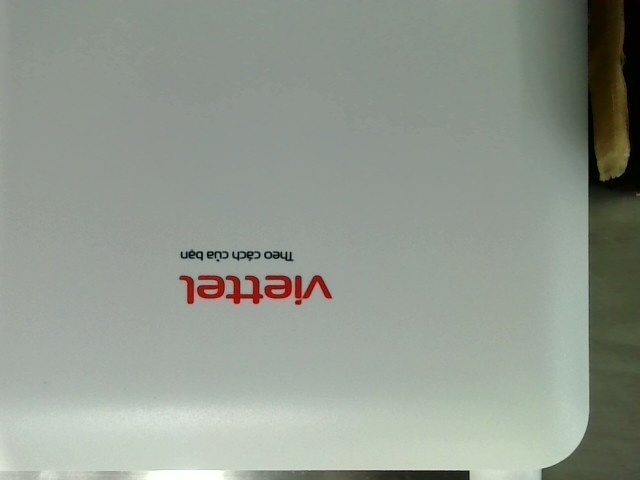AY_Viettel: (177, 243, 337, 309)
